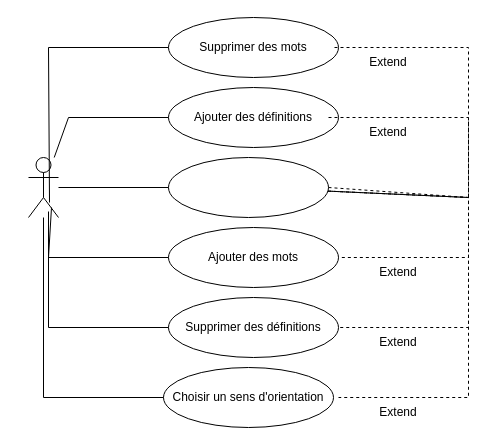
The diagram is 487 pixels wide and 445 high, and some of its shapes have lost their labels. Each missing label, with the centre of its shape:
"Créer une grille" belongs at pixel 248 187.
"Utilisateur" belongs at pixel 43 187.
